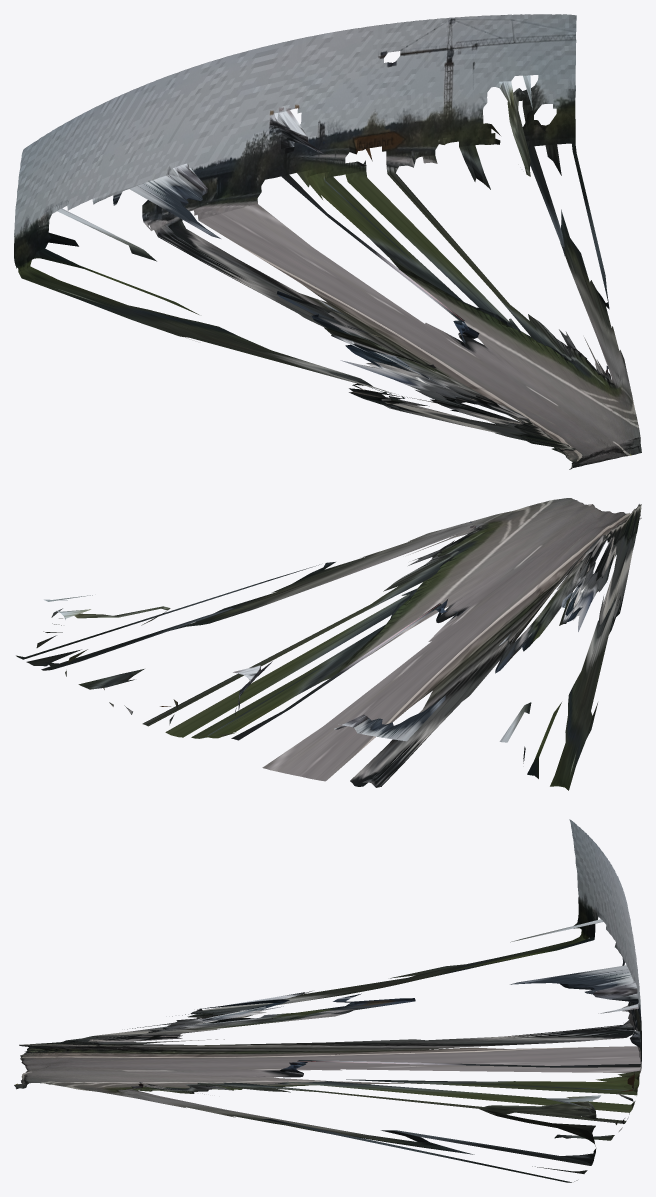
3 renders of one model, top to bottom at view 1: azimuth 30°, elevation 25°; view 2: azimuth 150°, elevation 25°; view 3: azimuth 270°, elevation 25°, orthographic. The views are drawn at different scales.
Visible parts, largest first — view 1: defaultobject; view 2: defaultobject; view 3: defaultobject.
Part boxes in pixels (x1,y1,x2,y2): defaultobject: (14, 14, 641, 469); defaultobject: (16, 498, 641, 790); defaultobject: (14, 819, 641, 1182).
Bounding box in the file's own units: 41.12 × 11.81 × 44.59.
Materials: 1 (1 with a texture image).
